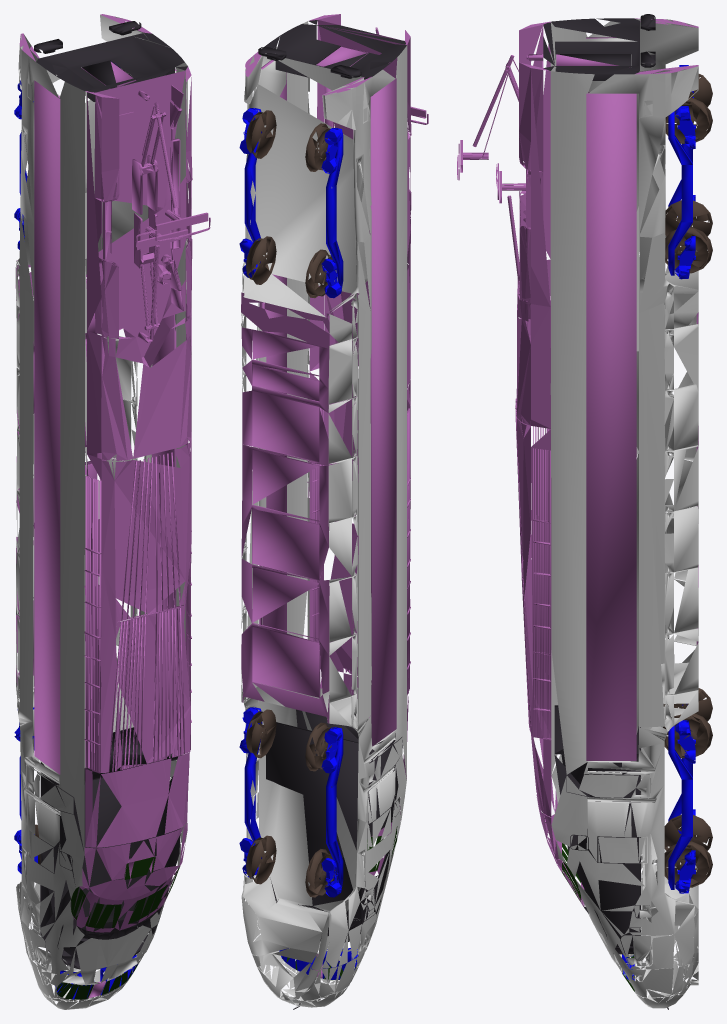
The model's file is AVEENG_L.obj.
The picture shows the model from 3 angles, left to right: view 1: azimuth 30°, elevation 25°; view 2: azimuth 150°, elevation 25°; view 3: azimuth 270°, elevation 25°; orthographic projection. The views are drawn at different scales.
Parts seen in each view (by area): view 1: AVE-AIRI; view 2: AVE-AIRI; view 3: AVE-AIRI.
Part boxes in pixels (x1=…): AVE-AIRI: x1=14, y1=14, x2=210, y2=1009; AVE-AIRI: x1=239, y1=14, x2=428, y2=1009; AVE-AIRI: x1=457, y1=14, x2=712, y2=1009.
Bounding box in the file's own units: 2940 × 22582 × 5416.
